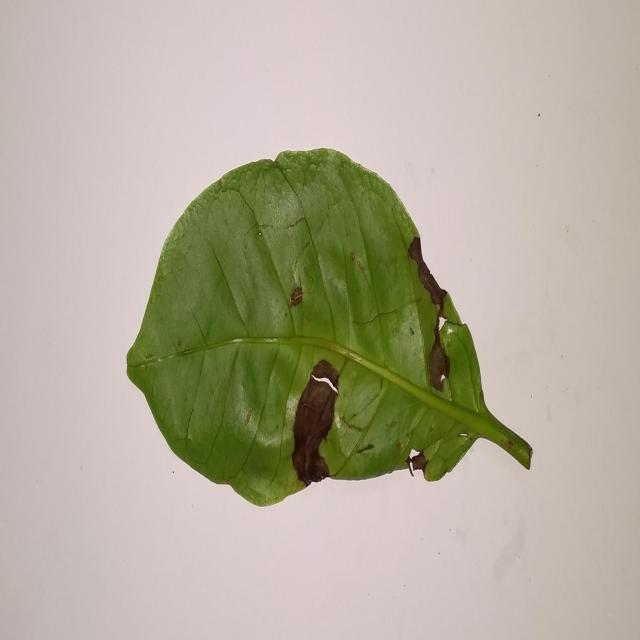Enfermedad-Antracnosis: (124, 149, 533, 509)
